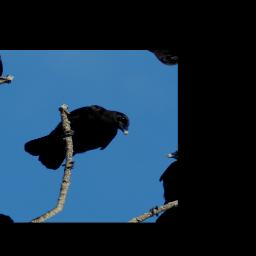Crow: (17, 85, 139, 189)
